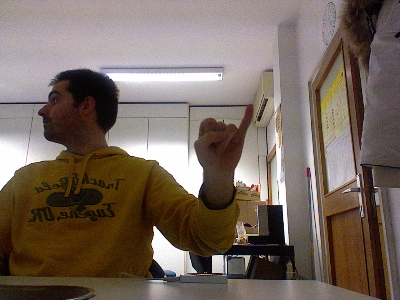小指: (192, 103, 254, 172)
